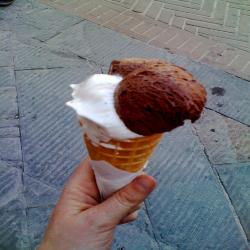icecream: (61, 52, 206, 182)
